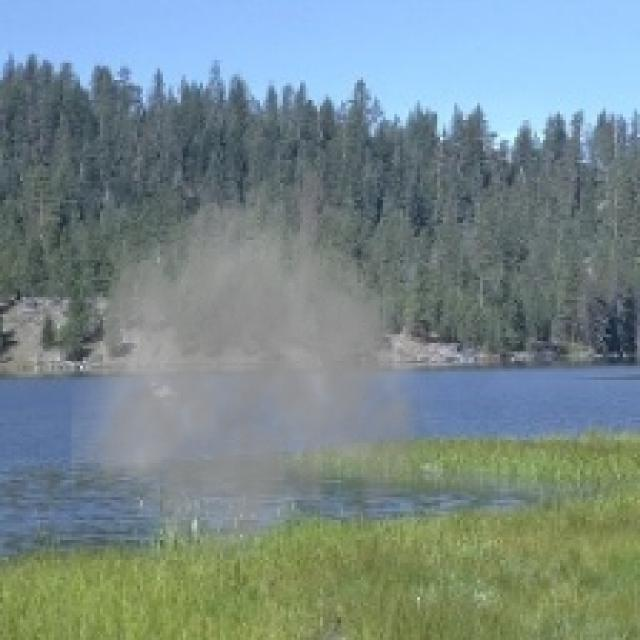smoke: (72, 166, 454, 571)
